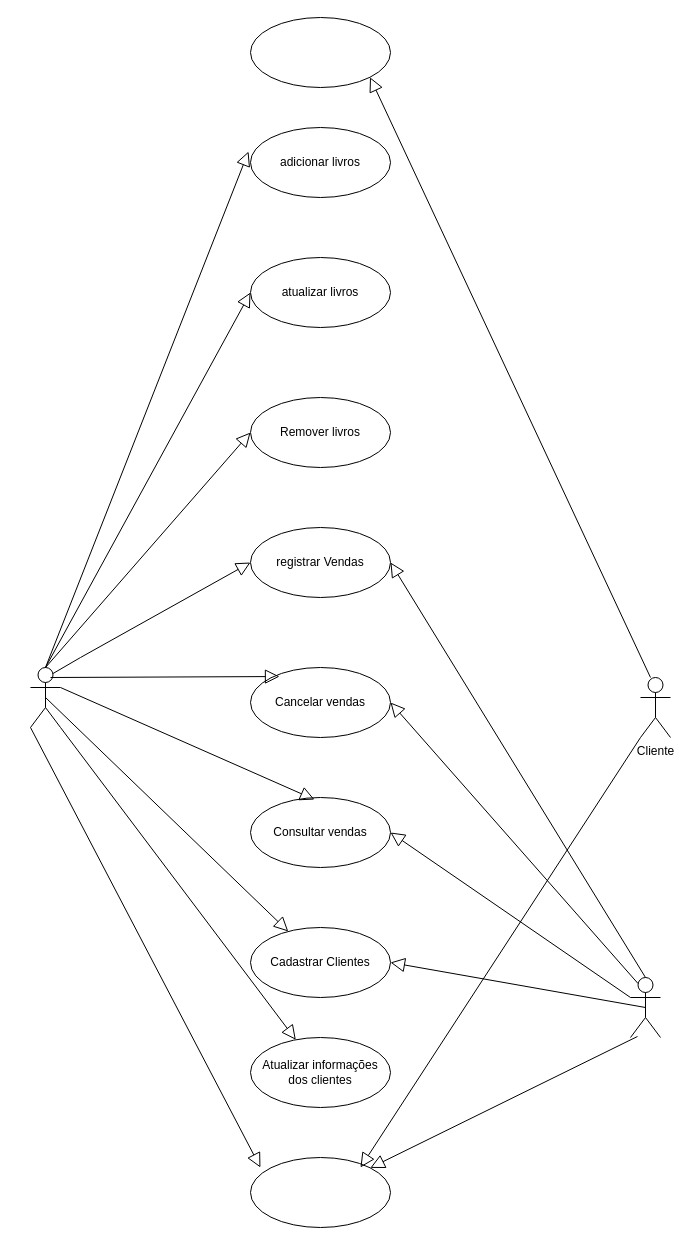
Image size: 691x1245. Some labels were removed from this diagram. Here are the shapes that lost their labels. From the top down, the centre of each, then its label:
At (x=320, y=52): "Consulta livros".
At (x=45, y=697): "Gerente".
At (x=645, y=1007): "Vendedor".
At (x=320, y=1192): "Consultar histórico de Compras".
